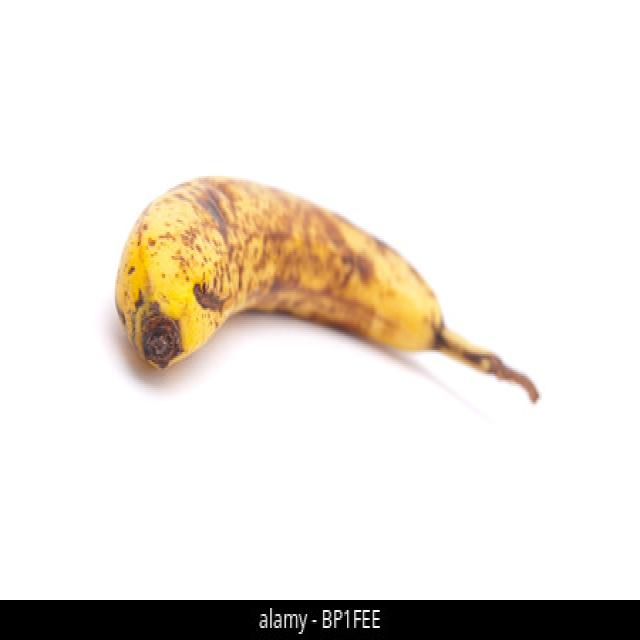overripe: (111, 167, 494, 382)
